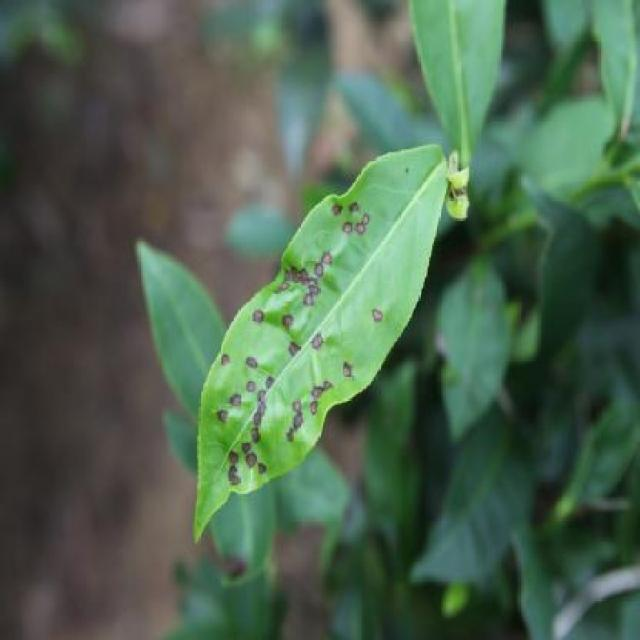Tea Mosquito bug infested leaf: (200, 157, 442, 517)
